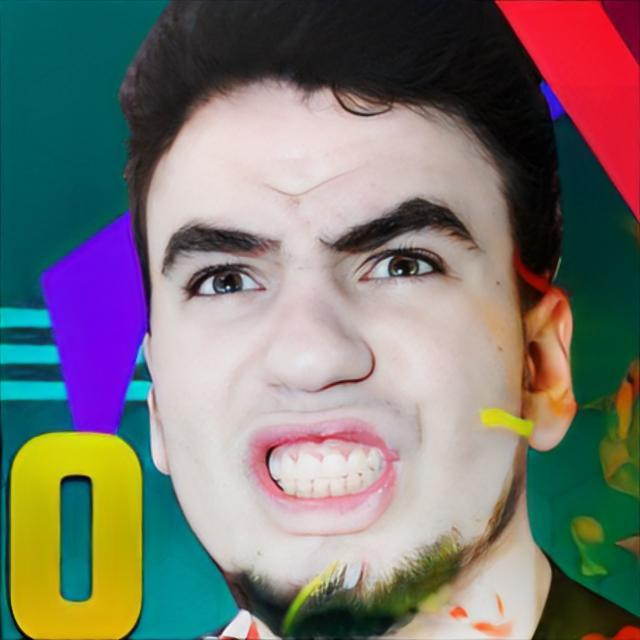anger: (147, 74, 524, 606)
